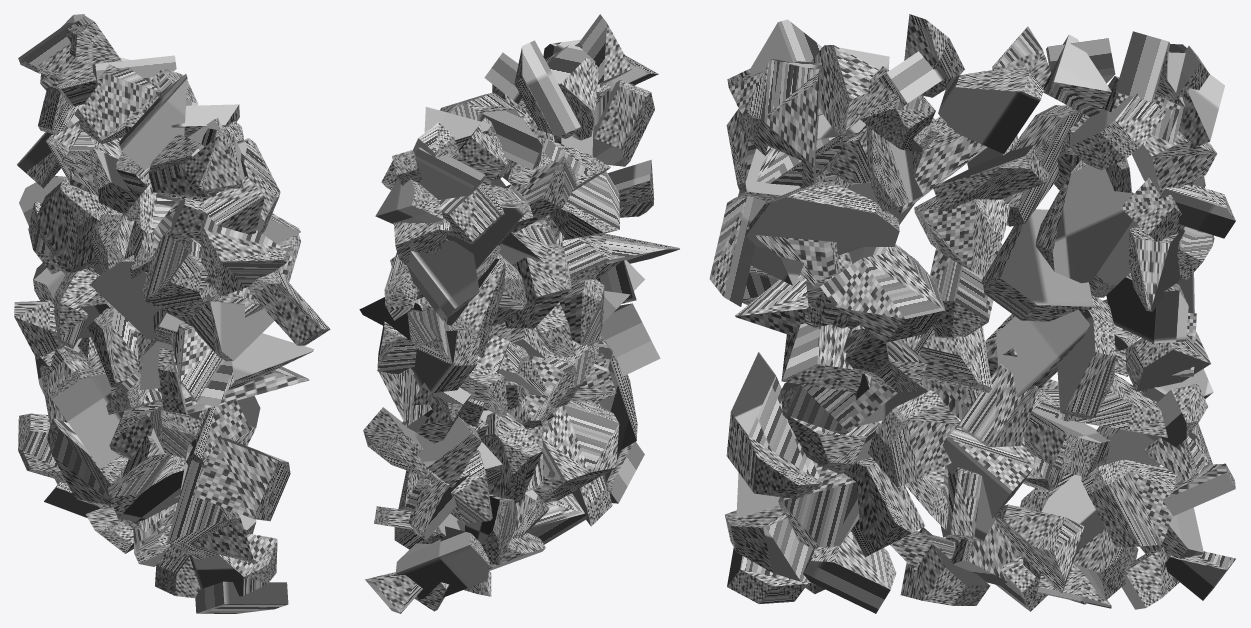
The model's file is breakableWall.fbx.
3 views of the same model, side by side, from view 1: azimuth 30°, elevation 25°; view 2: azimuth 150°, elevation 25°; view 3: azimuth 270°, elevation 25° (orthographic). The views are drawn at different scales.
Parts seen in each view (by area): view 1: Cube_cell.097, Cube_cell.040, Cube_cell.089, Cube_cell.039, Cube_cell.078, Cube_cell.069, Cube_cell.003, Cube_cell, Cube_cell.004, Cube_cell.066, Cube_cell.077, Cube_cell.014 (+53 smaller); view 2: Cube_cell.003, Cube_cell.046, Cube_cell.086, Cube_cell.039, Cube_cell.014, Cube_cell.078, Cube_cell.048, Cube_cell.069, Cube_cell.035, Cube_cell.097, Cube_cell.095, Cube_cell.089 (+60 smaller); view 3: Cube_cell.097, Cube_cell.006, Cube_cell.032, Cube_cell.028, Cube_cell.036, Cube_cell.056, Cube_cell.072, Cube_cell.054, Cube_cell.082, Cube_cell.062, Cube_cell.037, Cube_cell.029 (+75 smaller).
Part boxes in pixels (x1,y1,x2,y2): Cube_cell.097: (192, 437, 290, 521); Cube_cell.040: (167, 448, 254, 562); Cube_cell.089: (34, 181, 123, 272); Cube_cell.039: (200, 213, 288, 295); Cube_cell.078: (50, 368, 123, 468); Cube_cell.069: (142, 235, 214, 326); Cube_cell.003: (108, 453, 184, 522); Cube_cell: (79, 68, 161, 144); Cube_cell.004: (47, 418, 128, 508); Cube_cell.066: (184, 301, 274, 361); Cube_cell.077: (170, 322, 234, 406); Cube_cell.014: (119, 74, 187, 169); Cube_cell.003: (533, 401, 619, 502); Cube_cell.046: (395, 526, 489, 598); Cube_cell.086: (403, 240, 479, 320); Cube_cell.039: (592, 80, 654, 166); Cube_cell.014: (514, 40, 580, 138); Cube_cell.078: (482, 412, 542, 503); Cube_cell.048: (505, 244, 571, 328); Cube_cell.069: (549, 171, 619, 239); Cube_cell.035: (413, 330, 480, 399); Cube_cell.097: (600, 303, 660, 376); Cube_cell.095: (507, 352, 578, 428); Cube_cell.089: (446, 258, 505, 358); Cube_cell.097: (726, 352, 821, 498); Cube_cell.006: (820, 249, 945, 342); Cube_cell.032: (1035, 159, 1132, 283); Cube_cell.028: (746, 181, 899, 247); Cube_cell.036: (737, 59, 821, 187); Cube_cell.056: (982, 209, 1093, 321); Cube_cell.072: (938, 65, 1044, 153); Cube_cell.054: (1081, 459, 1176, 547); Cube_cell.082: (868, 389, 959, 487); Cube_cell.062: (914, 196, 1010, 276); Cube_cell.037: (1057, 295, 1115, 419); Cube_cell.029: (996, 309, 1089, 397).
Size of the model in its own units: 300 by 876 by 704.
Materials: 1 (1 with a texture image).
